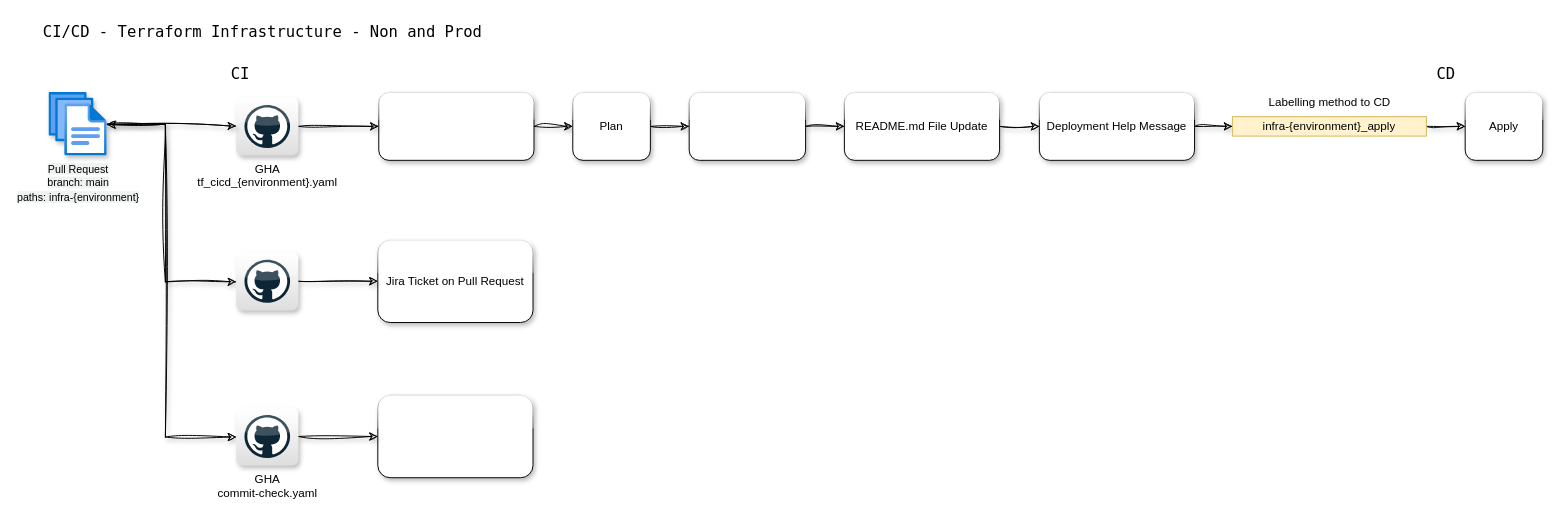
This 1566x517 diagram has some shape labels left out. Here are the shapes that lost their labels. From the top down, the centre of each, then its label:
At [457,127]: "Lint - SuperLinter Policy-as-Code - Checkov".
At [747,127]: "Cloud Infracost".
At [267,282]: "GHA jira_on_pr.yaml".
At [456,437]: "Conventional Commit Message Check".
